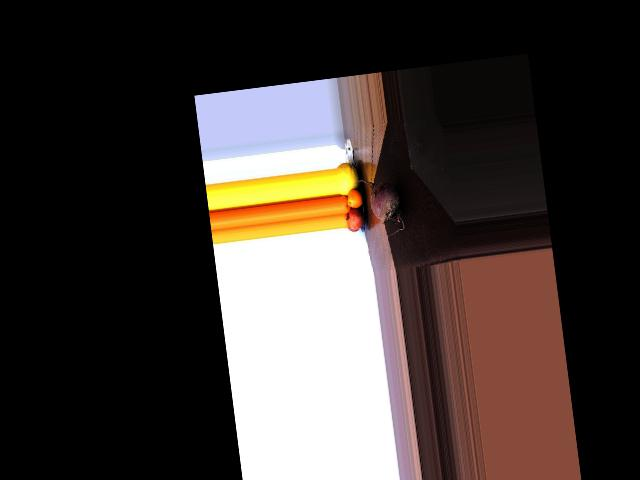beet: (354, 174, 405, 239)
